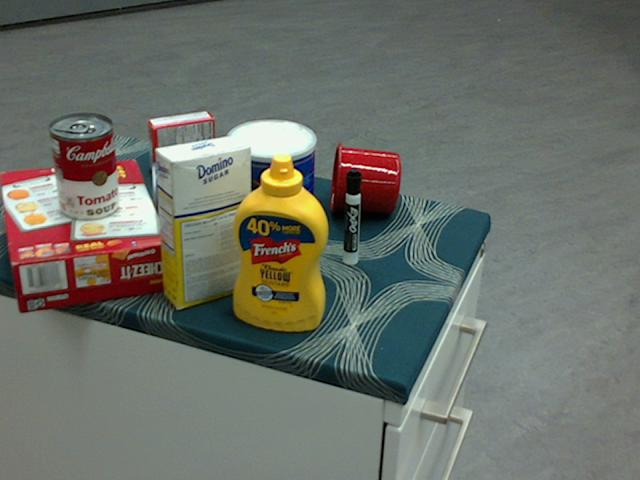cracker_box: (0, 157, 171, 312)
gelatin_box: (147, 110, 214, 174)
large_marker: (344, 168, 361, 264)
master_chef_can: (224, 118, 314, 262)
mug: (328, 141, 399, 213)
mustard_bottle: (233, 152, 329, 331)
potted_meat_can: (207, 128, 288, 214)
sugar_box: (154, 135, 251, 308)
tomato_soup_can: (48, 113, 118, 221)
tuna_fish_can: (150, 161, 179, 231)
